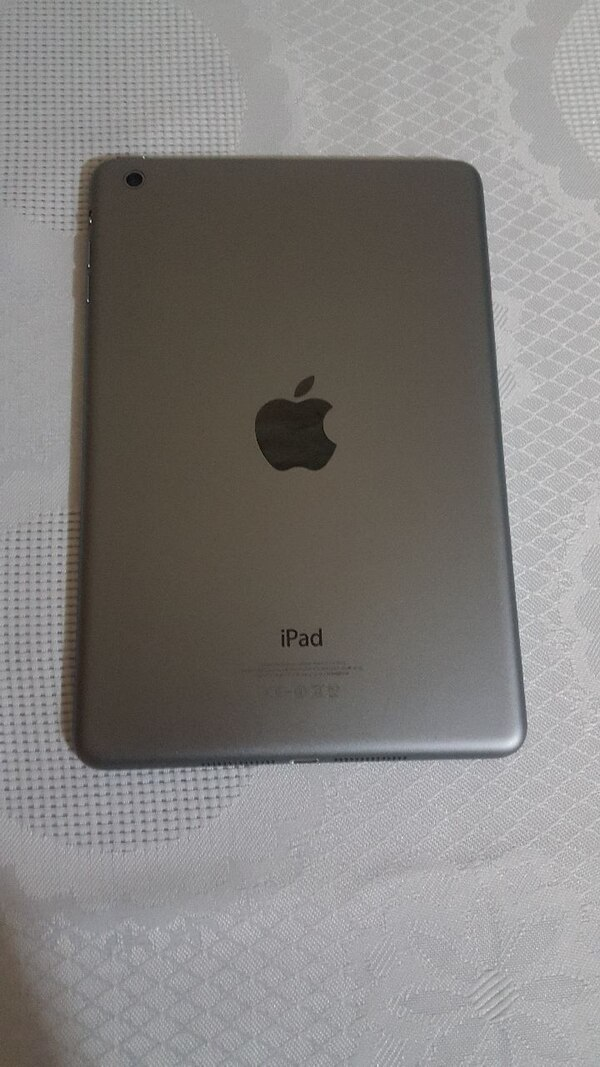apple: (235, 362, 387, 492)
